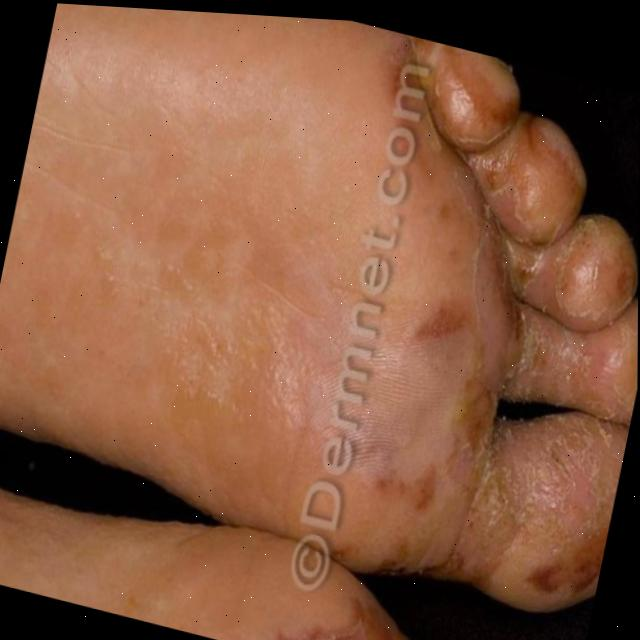Eczema: (289, 80, 640, 640), (305, 637, 372, 640)
